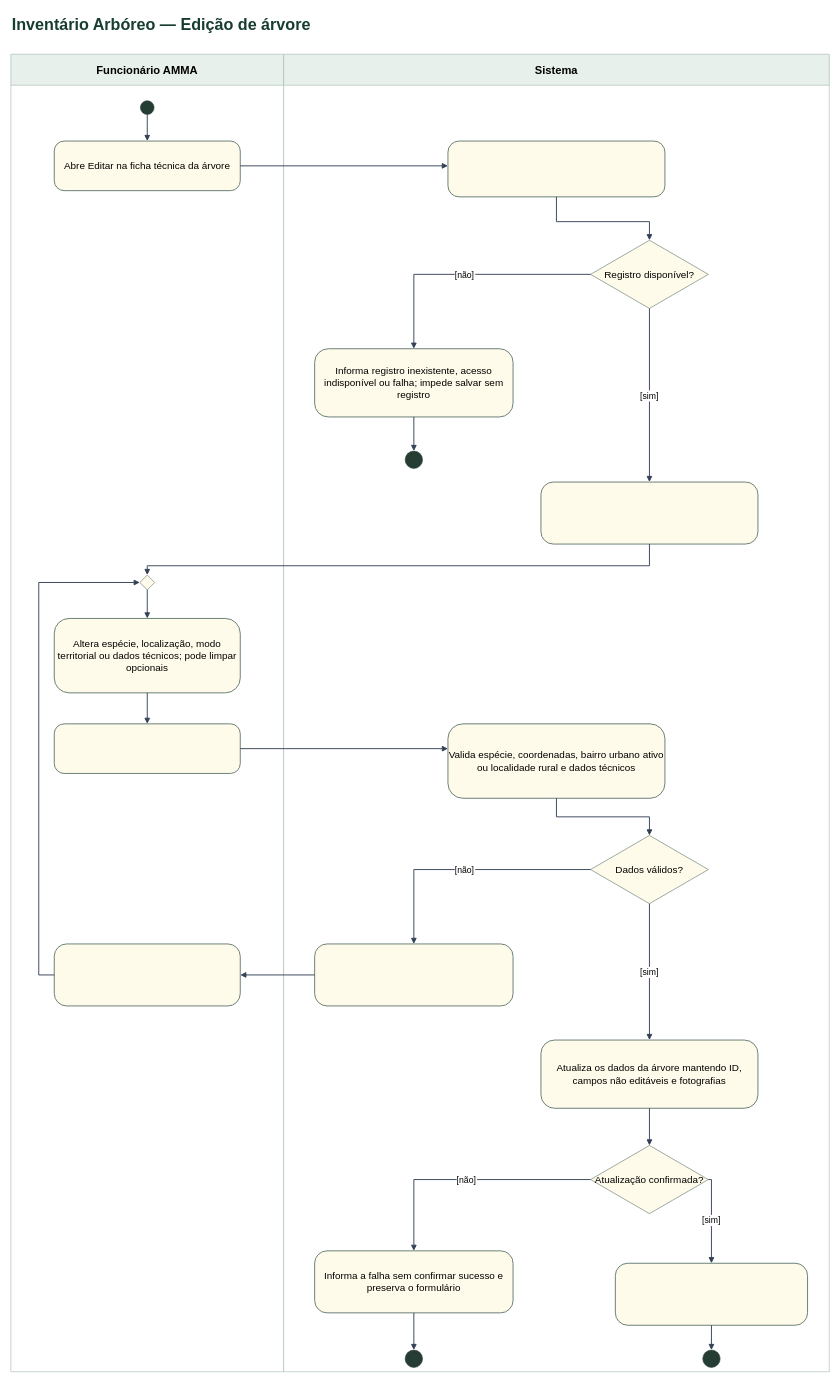
Some shapes in this 840 by 1383 pixel diagram are drawn without their labels. The centre of each missing label's shape, as x and y in pixels:
"Carrega o registro e os catálogos necessários" belongs at [556,168].
"Confirma a atualização e abre a ficha com os dados atualizados" belongs at [711,1294].
"Corrige os campos indicados" belongs at [147,974].
"Destaca os campos inválidos e preserva os dados preenchidos" belongs at [413,974].
"Preenche o formulário com os dados atuais e mantém a informação legada" belongs at [649,512].
"Solicita salvar as alterações" belongs at [147,748].
